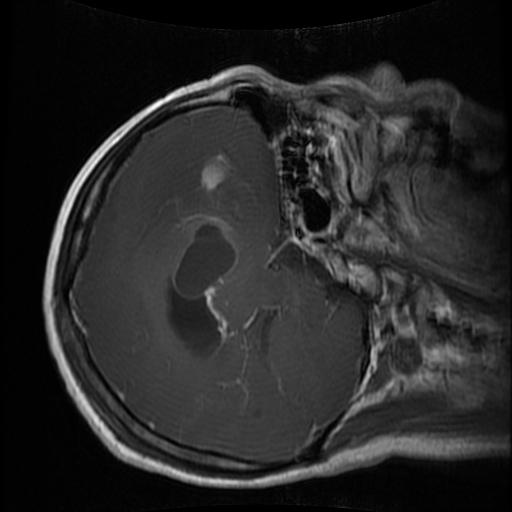glioma: (169, 221, 236, 303)
